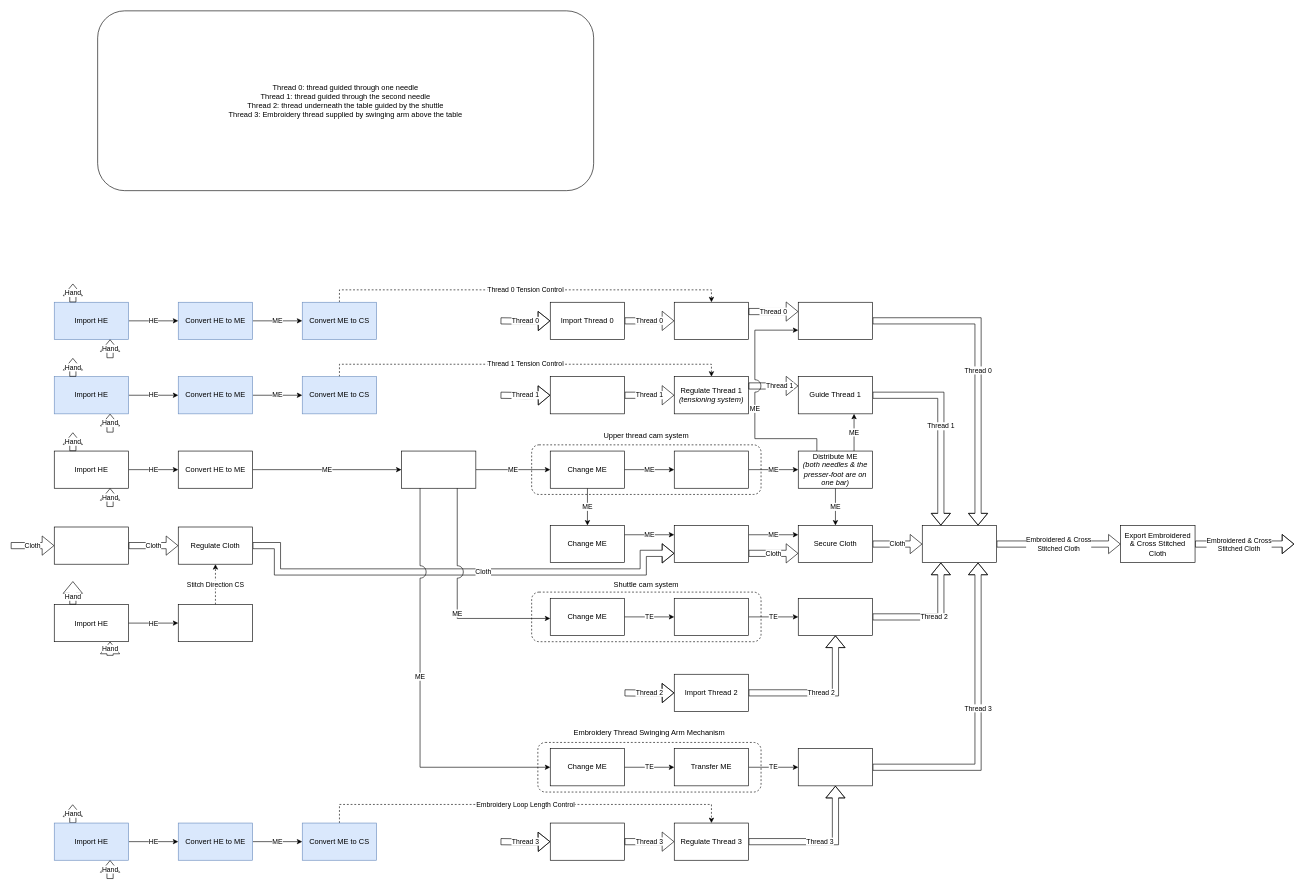
The diagram is 1304 pixels wide and 890 high, and some of its shapes have lost their labels. Here are the shapes that lost their labels. From the top down, the centre of each, then its label:
At [711,320]: "Regulate Thread 0 (tensioning system)".
At [835,320]: "Guide Thread 0".
At [587,395]: "Import Thread 1".
At [438,469]: "Distribute ME".
At [711,469]: "Transfer ME (to thread 0 & 1)".
At [91,545]: "Import Cloth".
At [711,544]: "Guide Cloth".
At [959,544]: "Couple Solids (also resets system for next cycle)".
At [215,623]: "Convert HE to CS".
At [711,617]: "Transfer ME (to thread 2)".
At [835,617]: "Guide Thread 2".
At [835,767]: "Guide Thread 3".
At [587,841]: "Import Thread 3".
